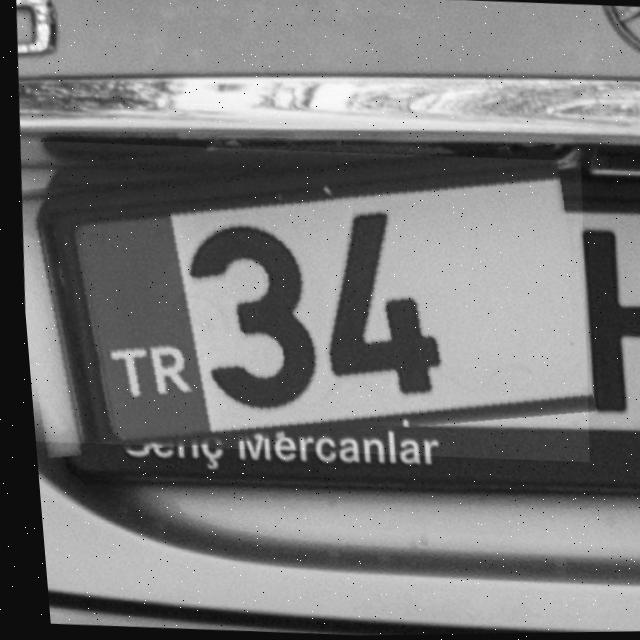LicensePlate: (9, 133, 597, 470)
